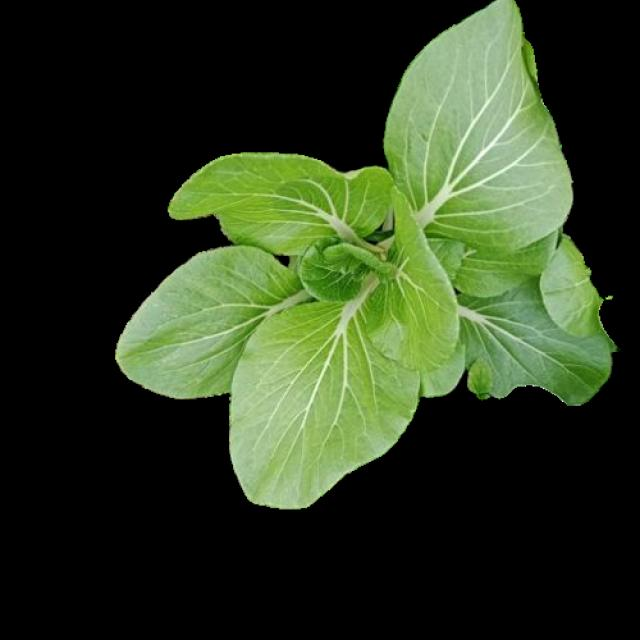healthy: (113, 6, 608, 502)
mature: (115, 9, 611, 504)
